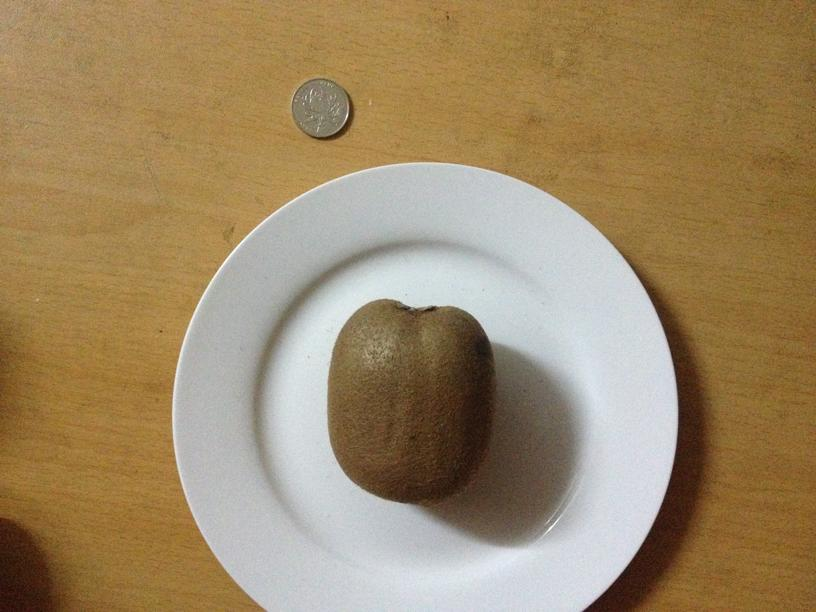coin: (288, 75, 355, 138)
qiwi: (332, 299, 495, 503)
